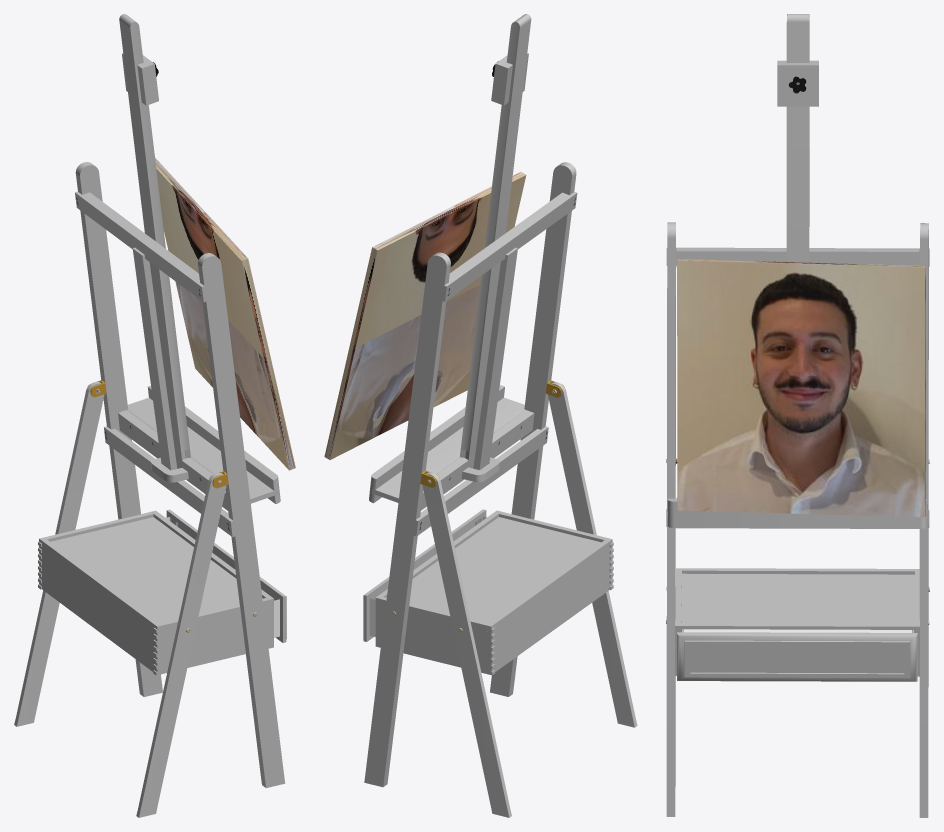
Rendered from davide.obj.
3 renders of one model, left to right at view 1: azimuth 30°, elevation 25°; view 2: azimuth 150°, elevation 25°; view 3: azimuth 270°, elevation 25°, orthographic. The views are drawn at different scales.
Parts seen in each view (by area): view 1: stand_Cylinder.001, board_Cube.001; view 2: stand_Cylinder.001, board_Cube.001; view 3: board_Cube.001, stand_Cylinder.001.
Boxes of the visible parts, left/top/right/bottom form: stand_Cylinder.001: left=14, top=14, right=286, bottom=817; board_Cube.001: left=155, top=157, right=295, bottom=470; stand_Cylinder.001: left=363, top=14, right=637, bottom=817; board_Cube.001: left=324, top=171, right=526, bottom=459; board_Cube.001: left=677, top=259, right=925, bottom=517; stand_Cylinder.001: left=666, top=14, right=929, bottom=817.
Bounding box in the file's own units: 1.31 × 4.93 × 1.56.
